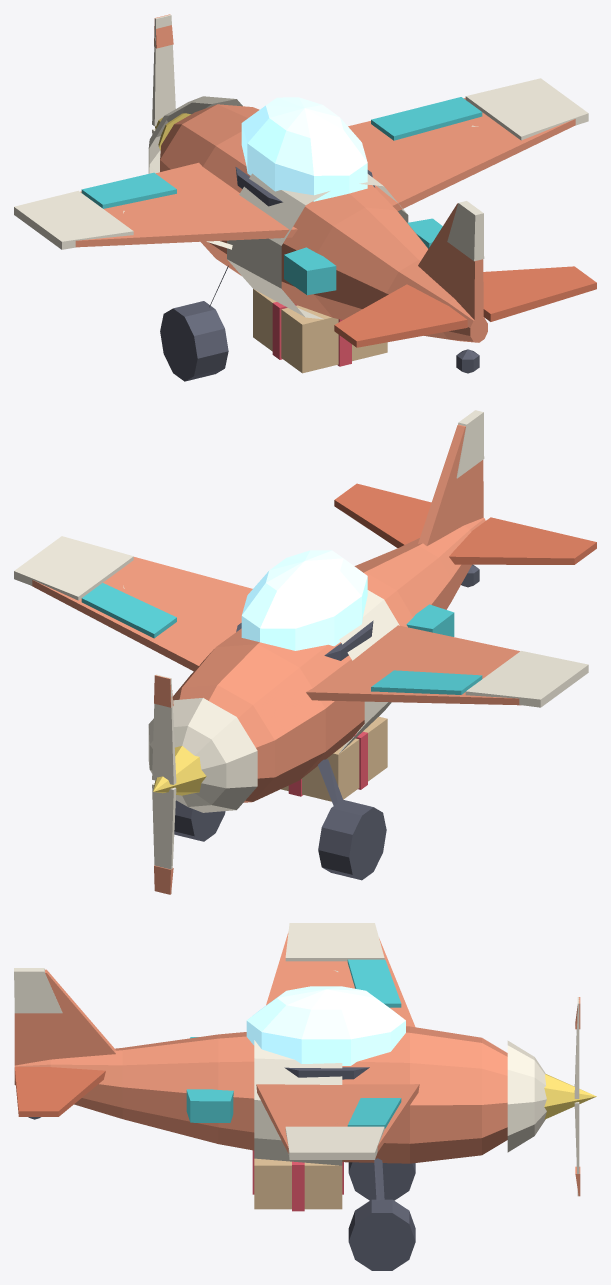
The picture shows the model from 3 angles, top to bottom: view 1: azimuth 30°, elevation 25°; view 2: azimuth 150°, elevation 25°; view 3: azimuth 270°, elevation 25°; orthographic projection. The views are drawn at different scales.
Visible parts, largest first — view 1: Fuselage, Canopy, WingR, WingL, StabL, Belt, Parcel, WheelL, WingTipR, StabR, WingTipL, Fin (+9 smaller); view 2: Fuselage, Canopy, WingR, WingL, Cowl, StabL, WingTipR, WheelL, WingTipL, Fin, StabR, Parcel (+10 smaller); view 3: Fuselage, Canopy, WingR, Fin, WheelR, Parcel, Belt, WingTipL, StabR, Cowl, WingTipR, WingL (+8 smaller).
Part boxes in pixels (box(x1,y1,x2,y2)): Fuselage: box(160, 104, 487, 342); Canopy: box(241, 97, 367, 201); WingR: box(348, 98, 575, 211); WingL: box(75, 162, 297, 247); StabL: box(334, 284, 467, 347); Belt: box(227, 173, 408, 319); Parcel: box(253, 289, 387, 373); WheelL: box(160, 301, 228, 381); WingTipR: box(465, 78, 588, 140); StabR: box(483, 266, 596, 321); WingTipL: box(14, 190, 133, 249); Fin: box(418, 203, 483, 325); Fuselage: box(173, 517, 485, 802); Canopy: box(241, 550, 367, 650); WingR: box(32, 557, 252, 671); WingL: box(306, 625, 520, 705); Cowl: box(148, 698, 257, 812); StabL: box(449, 517, 596, 564); WingTipR: box(14, 536, 133, 600); WheelL: box(318, 800, 386, 880); WingTipL: box(465, 651, 588, 707); Fin: box(418, 424, 483, 545); StabR: box(334, 483, 431, 547); Parcel: box(281, 716, 387, 801); Fuselage: box(14, 1026, 507, 1163); Canopy: box(246, 986, 405, 1065); WingR: box(256, 1084, 419, 1153); Fin: box(14, 969, 115, 1065); WheelR: box(348, 1199, 415, 1270); Parcel: box(254, 1158, 342, 1209); Belt: box(254, 1040, 342, 1165); WingTipL: box(285, 923, 384, 961); StabR: box(14, 1067, 105, 1116); Cowl: box(507, 1040, 546, 1152); WingTipR: box(285, 1126, 384, 1159); WingL: box(266, 933, 415, 1027).
Size of the model in its own units: 6.8 by 3.59 by 7.3.
